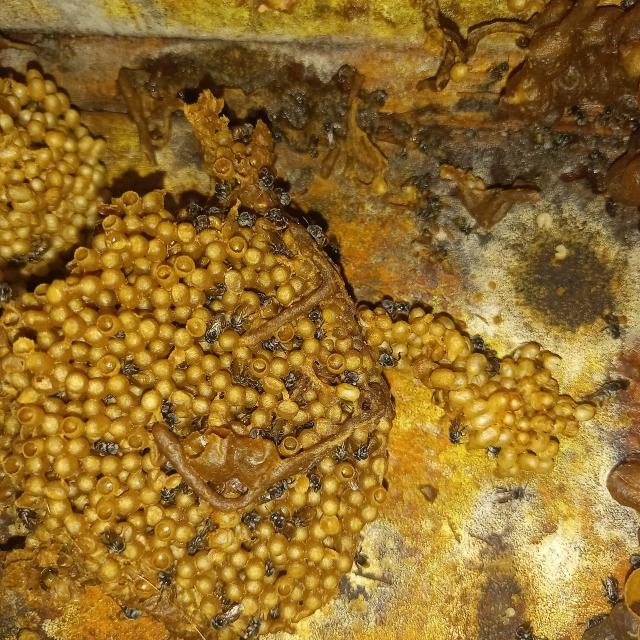honeybee: (593, 299, 632, 350), (471, 326, 507, 376), (595, 564, 630, 614), (486, 481, 531, 518), (184, 522, 217, 560), (15, 494, 46, 534), (254, 474, 293, 505), (272, 363, 306, 396), (200, 605, 234, 637), (153, 477, 184, 512), (28, 232, 56, 270), (247, 416, 278, 448), (502, 617, 544, 640), (240, 607, 269, 640), (184, 407, 212, 441), (445, 410, 470, 448), (449, 212, 481, 241), (92, 438, 122, 467), (238, 199, 262, 235), (195, 315, 223, 344), (272, 183, 302, 210), (305, 220, 335, 247), (316, 315, 342, 346), (156, 396, 184, 424), (150, 562, 179, 589), (300, 407, 326, 437), (338, 363, 364, 391), (103, 528, 130, 554), (305, 298, 330, 326), (230, 364, 255, 391), (109, 356, 139, 378), (154, 457, 180, 482), (265, 508, 292, 531), (488, 436, 511, 463), (378, 343, 399, 372), (182, 192, 207, 216), (377, 288, 398, 316), (242, 506, 263, 534), (372, 346, 396, 370), (396, 288, 414, 320), (189, 211, 212, 236), (333, 438, 352, 468), (119, 602, 144, 624), (260, 330, 283, 353), (213, 175, 231, 203), (352, 441, 373, 465), (259, 168, 276, 192), (261, 559, 281, 579), (267, 602, 285, 623)
